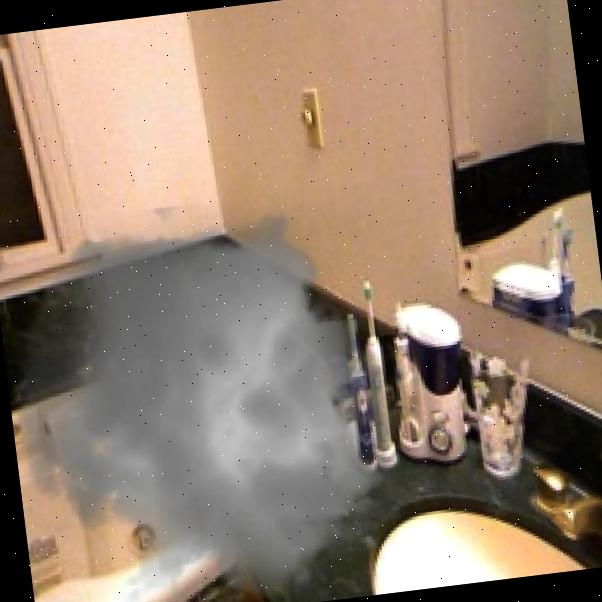smoke: (0, 183, 421, 602)
